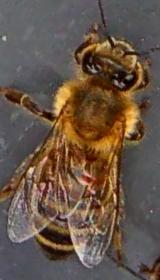varroa_mite: (74, 164, 96, 186)
